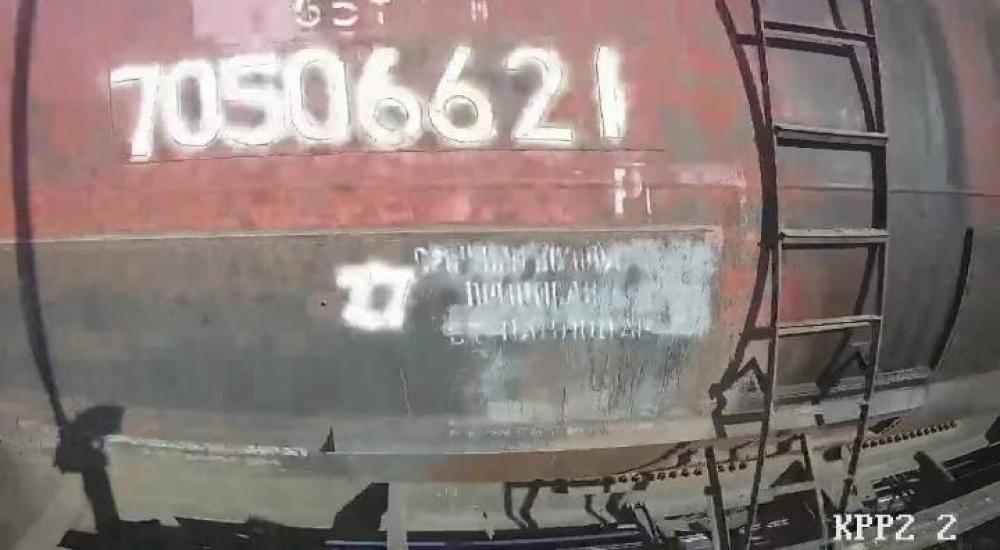Wagon-number: (106, 41, 630, 166)
